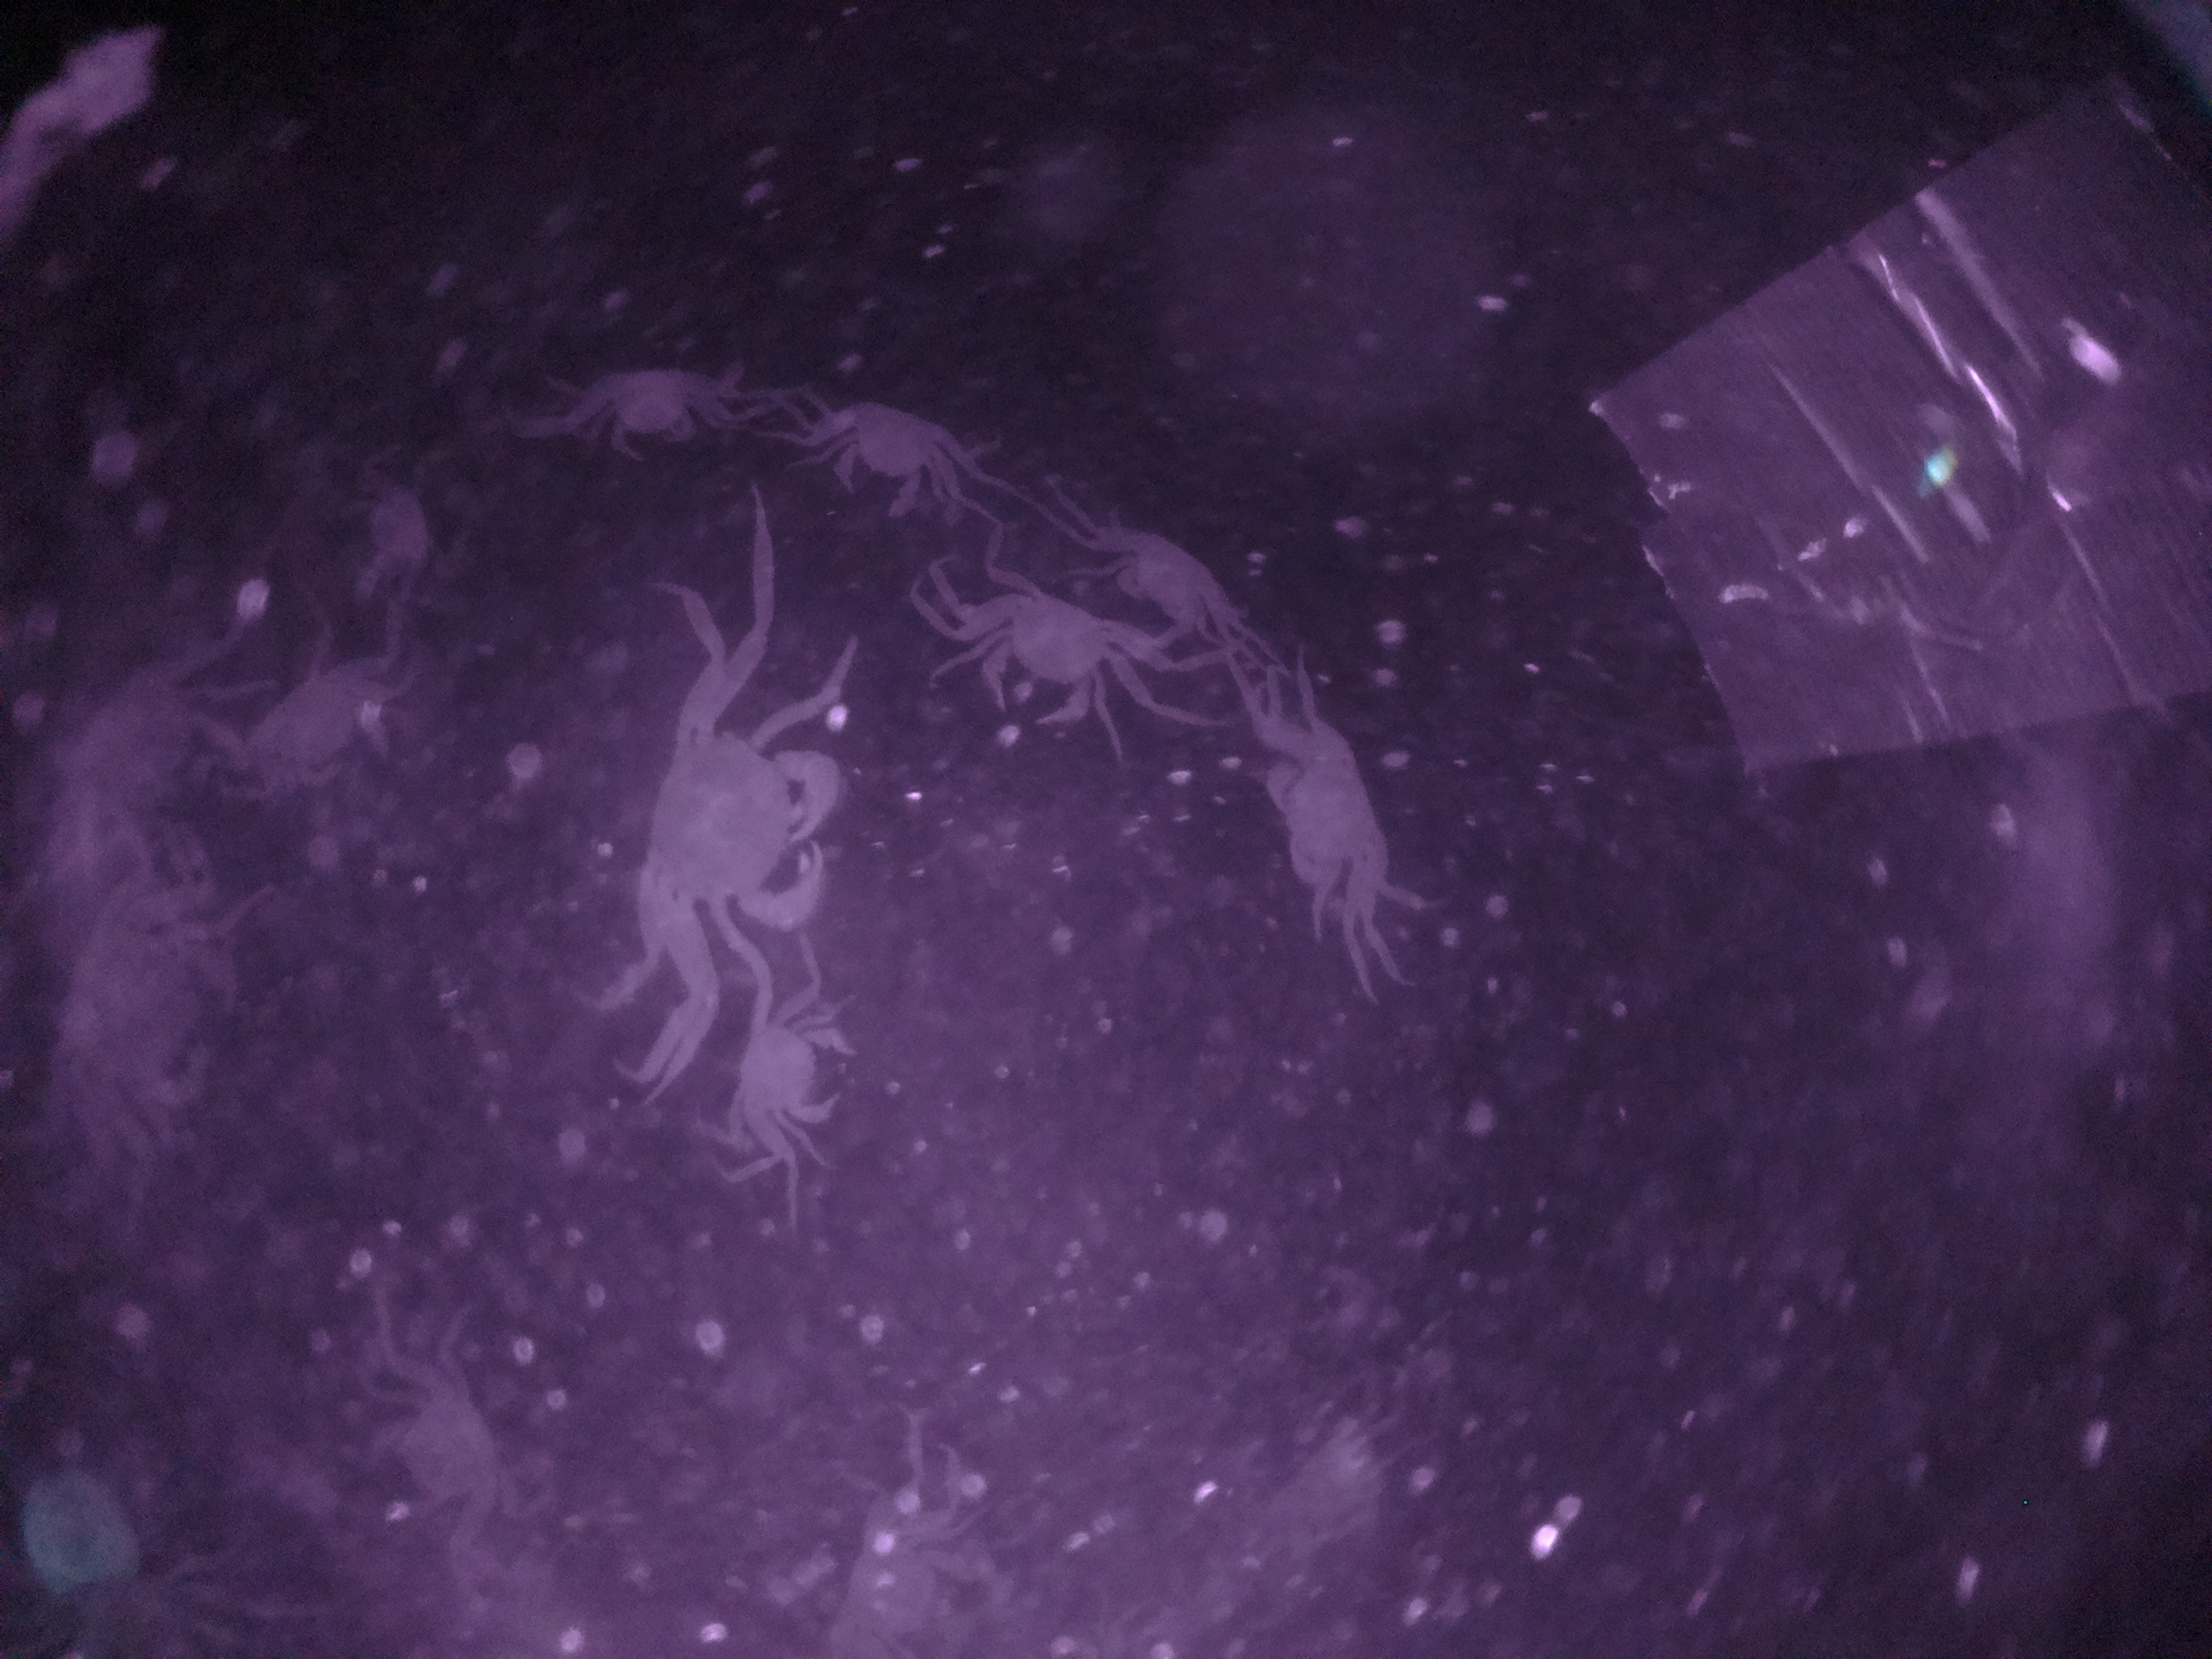Crab: (627, 695, 846, 953), (1251, 702, 1420, 924), (941, 580, 1137, 741), (806, 383, 974, 533), (1078, 514, 1254, 653), (719, 986, 855, 1152), (559, 354, 732, 458)
